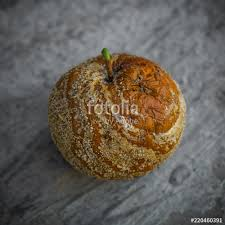damaged_apple: (47, 54, 183, 184)
